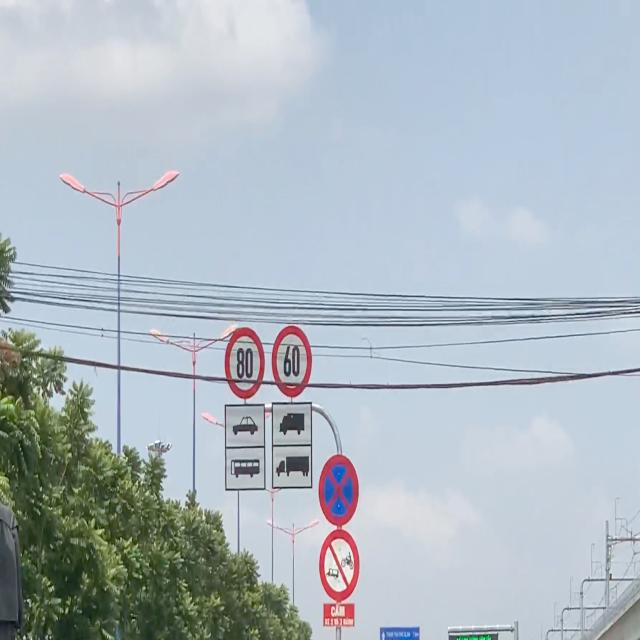Cam con lai: (318, 530, 361, 603)
Cam dung va do: (317, 453, 360, 528)
Toc do toi da: (270, 322, 314, 398), (223, 325, 266, 400)
